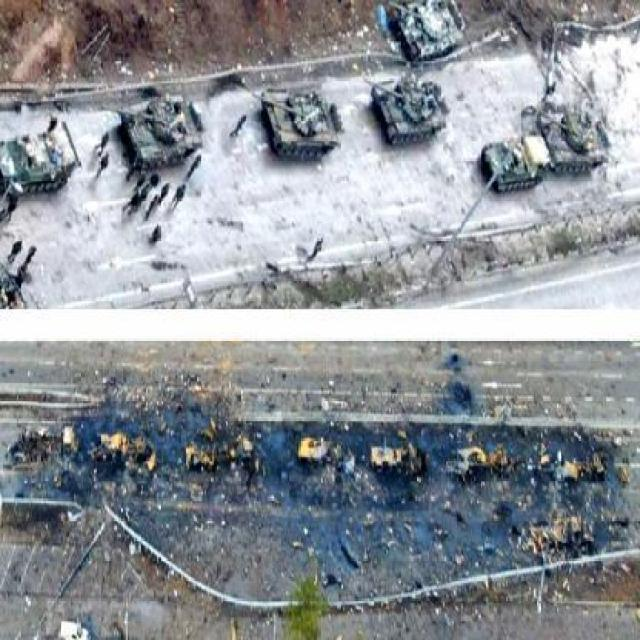Tanks: (525, 94, 617, 180), (253, 82, 347, 164), (112, 91, 212, 166), (363, 75, 448, 143), (0, 120, 83, 189), (374, 0, 471, 57), (472, 134, 546, 192)
